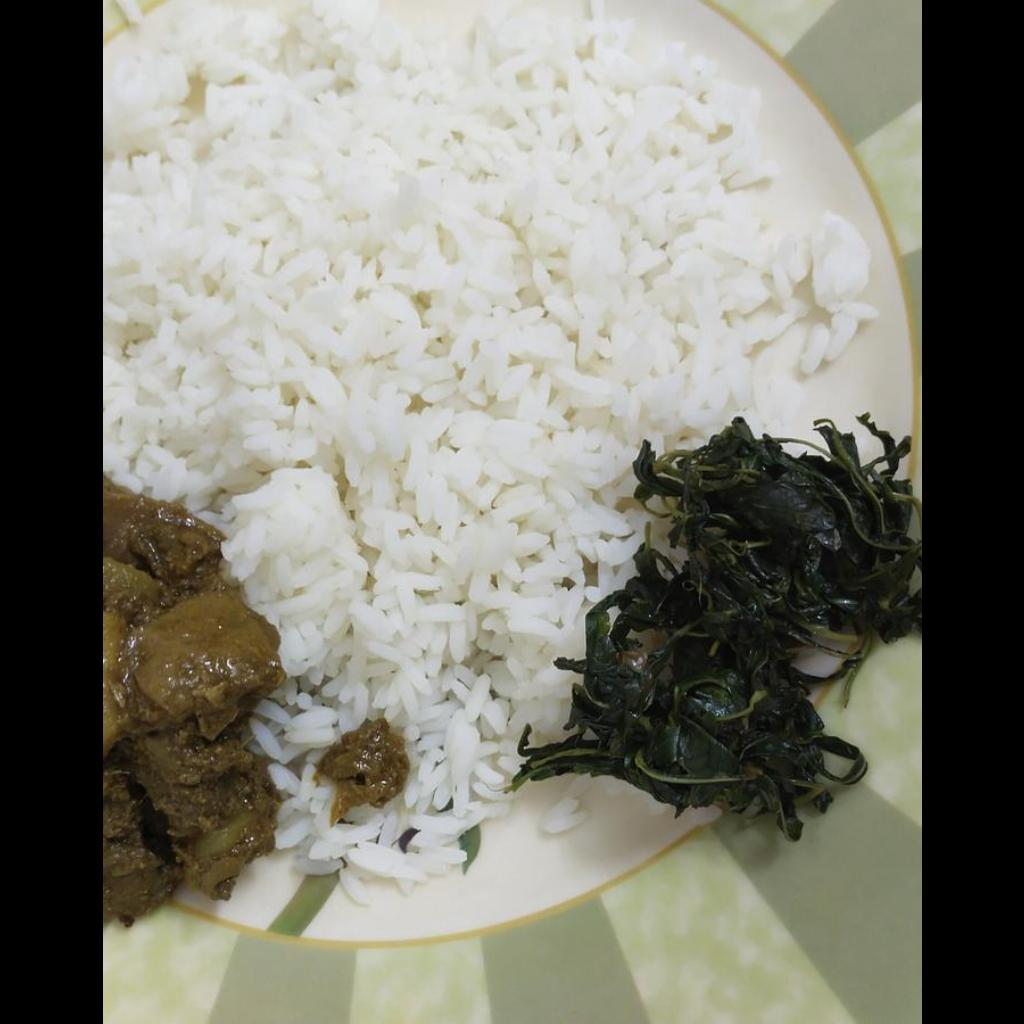beef: (102, 484, 276, 922)
rice: (104, 2, 871, 821)
shak: (516, 418, 920, 840)
